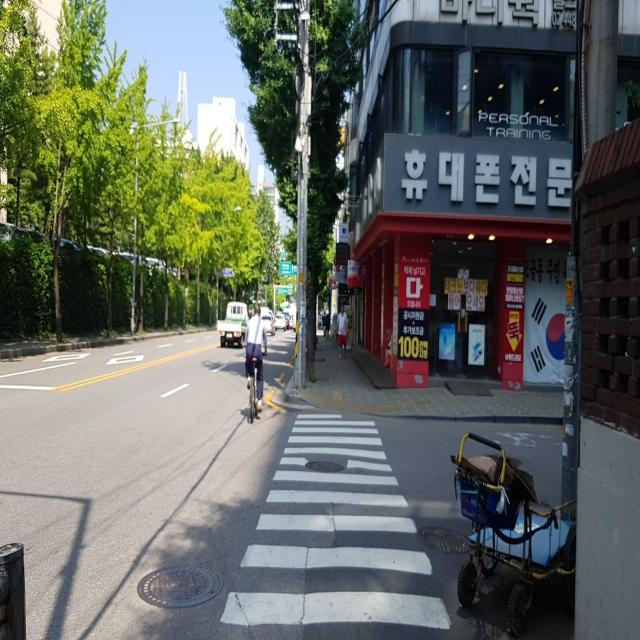횡단보도: (220, 413, 452, 632)
